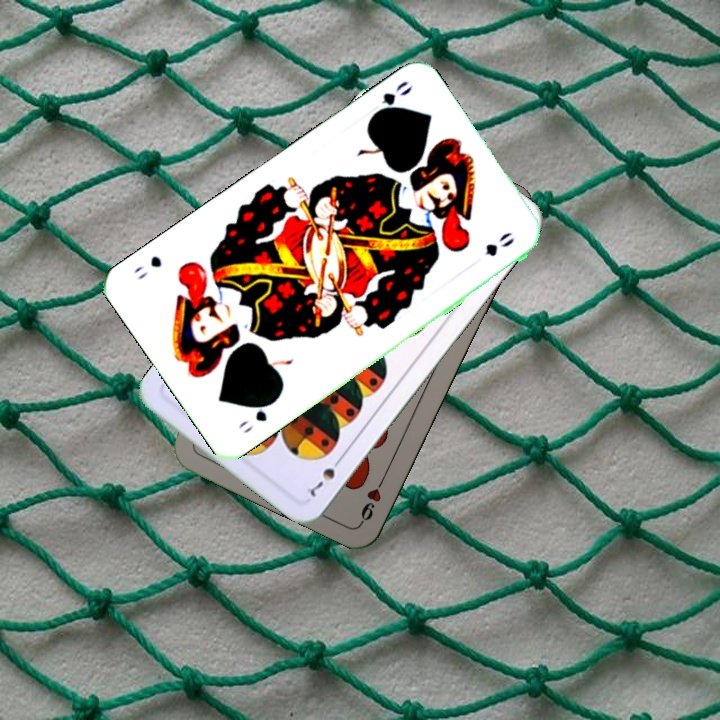GO: (366, 76, 416, 122), (233, 395, 279, 436)
H9: (356, 470, 389, 525)
S7: (302, 452, 346, 500)
